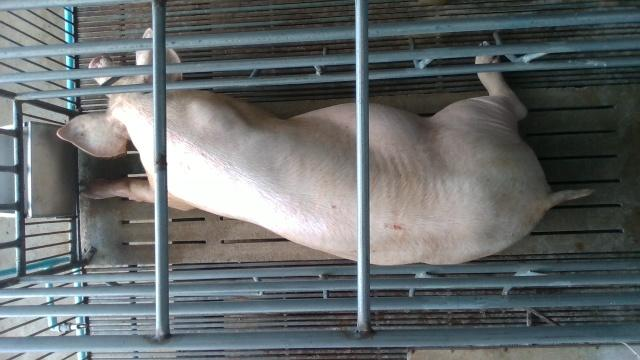sow-sit: (58, 26, 595, 266)
